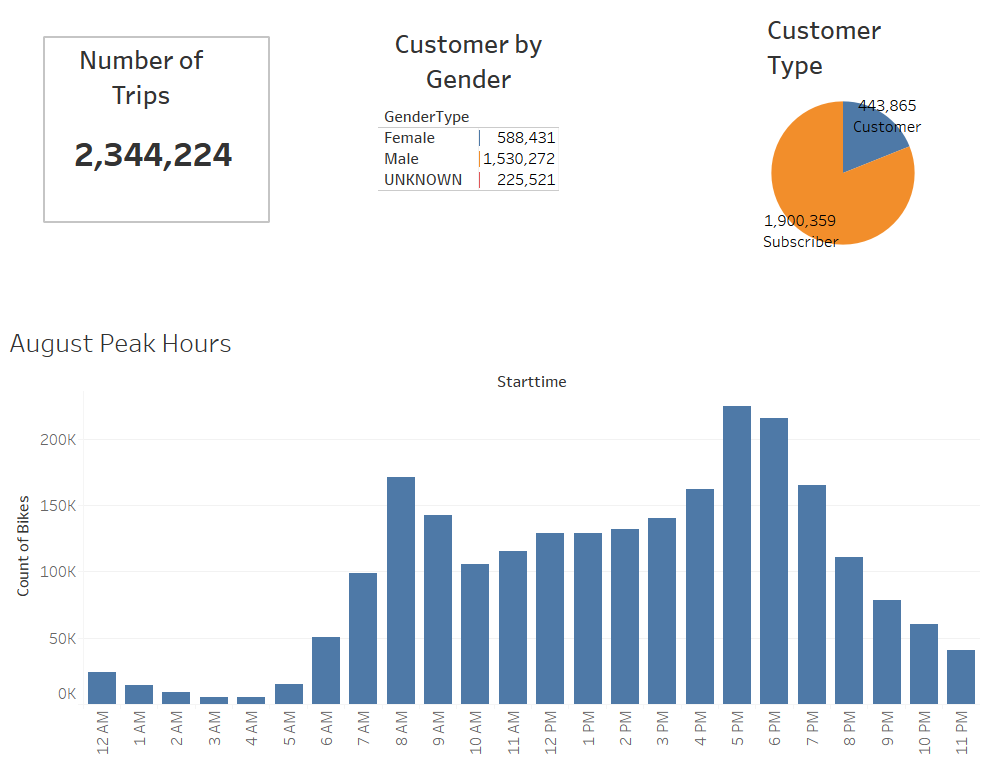

The dashboard page shown, as its layout file describes it:
{"tool":"tableau","page":{"name":"Customer Breakdowns","canvas":[1000,800],"ordinal":1},"visuals":[{"type":"worksheet","title":"Customer Type","mark":"Pie","box":[766,8,206,284]},{"type":"worksheet","title":"Customer by Gender","mark":"Bar","rows":["Calculation_6333468500639113216"],"box":[381,22,258,266]},{"type":"worksheet","title":"Number of Trips","mark":"Automatic","box":[48,38,223,183]},{"type":"worksheet","title":"August Peak Hours","mark":"Bar","rows":["citibike_tripdata_aug2019.csv_D8967C2C65EA428F9E0E94B37D14C7"],"cols":["starttime"],"box":[8,321,975,443]}]}

Visuals, with their boxes in screenshot pixels (x1, y1, x2, y2), scaled from the page's 1000x800 canvas onto the 992x781 screenshot:
"Customer Type" worksheet (Pie marks): x1=760 y1=8 x2=964 y2=285
"Customer by Gender" worksheet (Bar marks): x1=378 y1=21 x2=634 y2=281
"Number of Trips" worksheet: x1=48 y1=37 x2=269 y2=216
"August Peak Hours" worksheet (Bar marks): x1=8 y1=313 x2=975 y2=746
